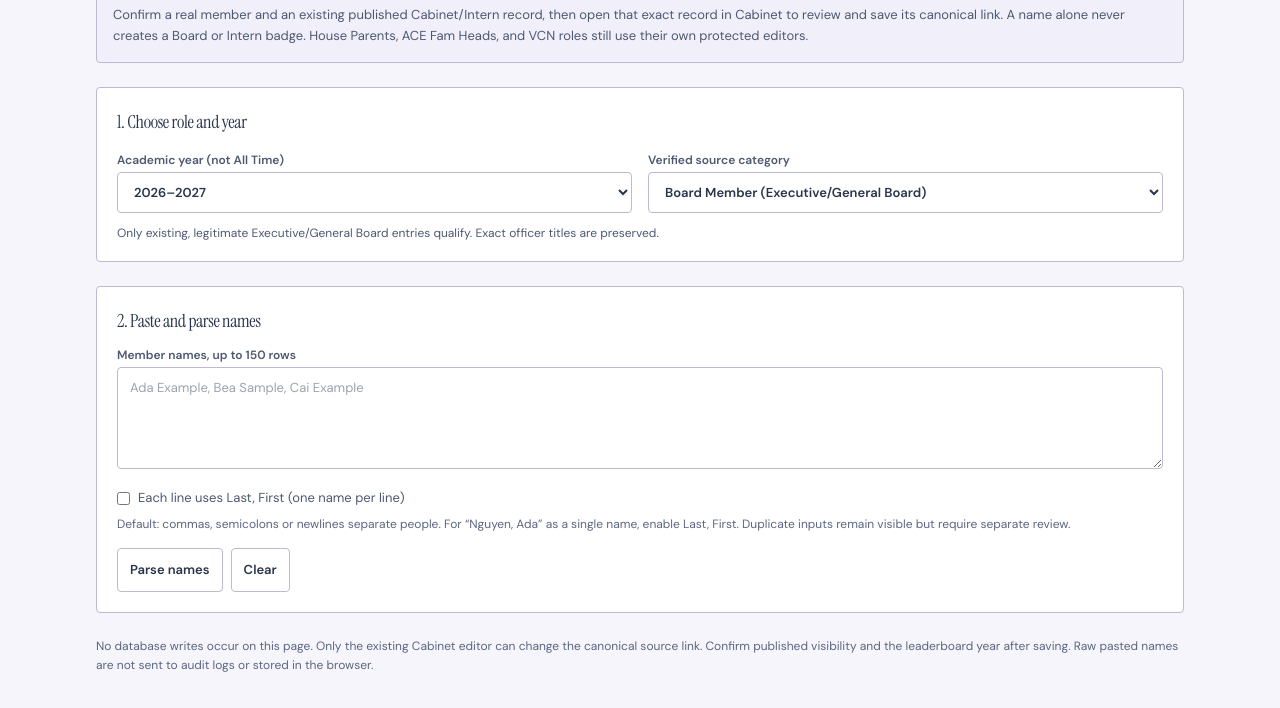
only chooses a single exact member and matching Cabinet row after separate admin clicks
(page scrolled)
In the text box labelled "Member names, up to 150 rows": [640, 418] box [117,367,1163,469], type "Ada Example"
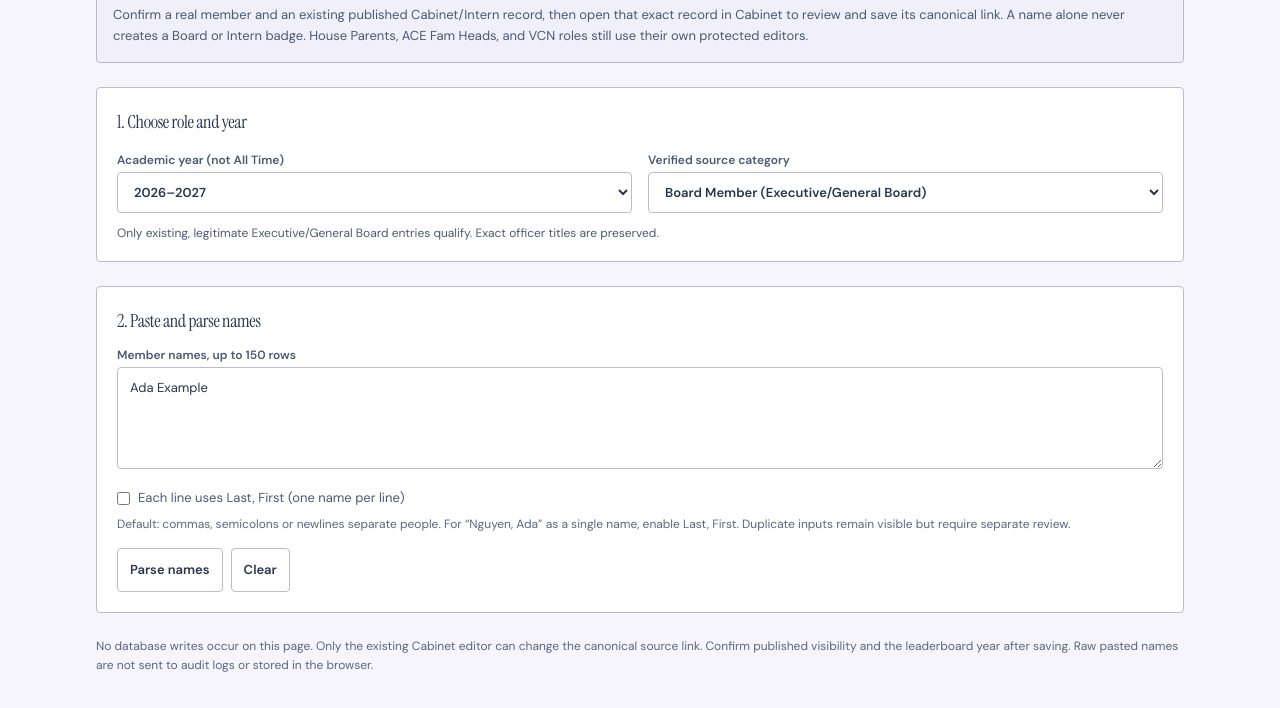
Click the button "Parse names": [170, 570] box [117,548,223,592]
(page scrolled)
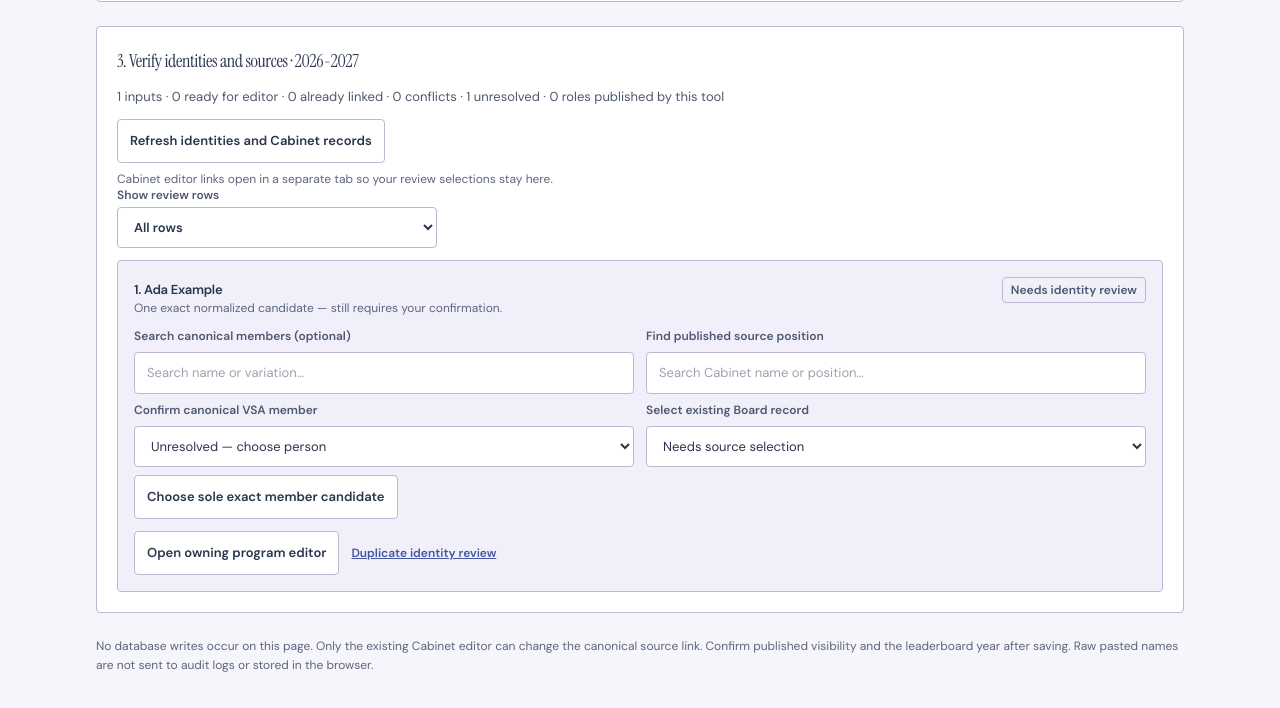
Check: the text "1 inputs · 0 ready for editor" is shown, box [117,88,724,105]
Click the button with aria-label "Row 1: choose sole exact member candidate for Ada Example": [266, 497] box [134,475,398,519]
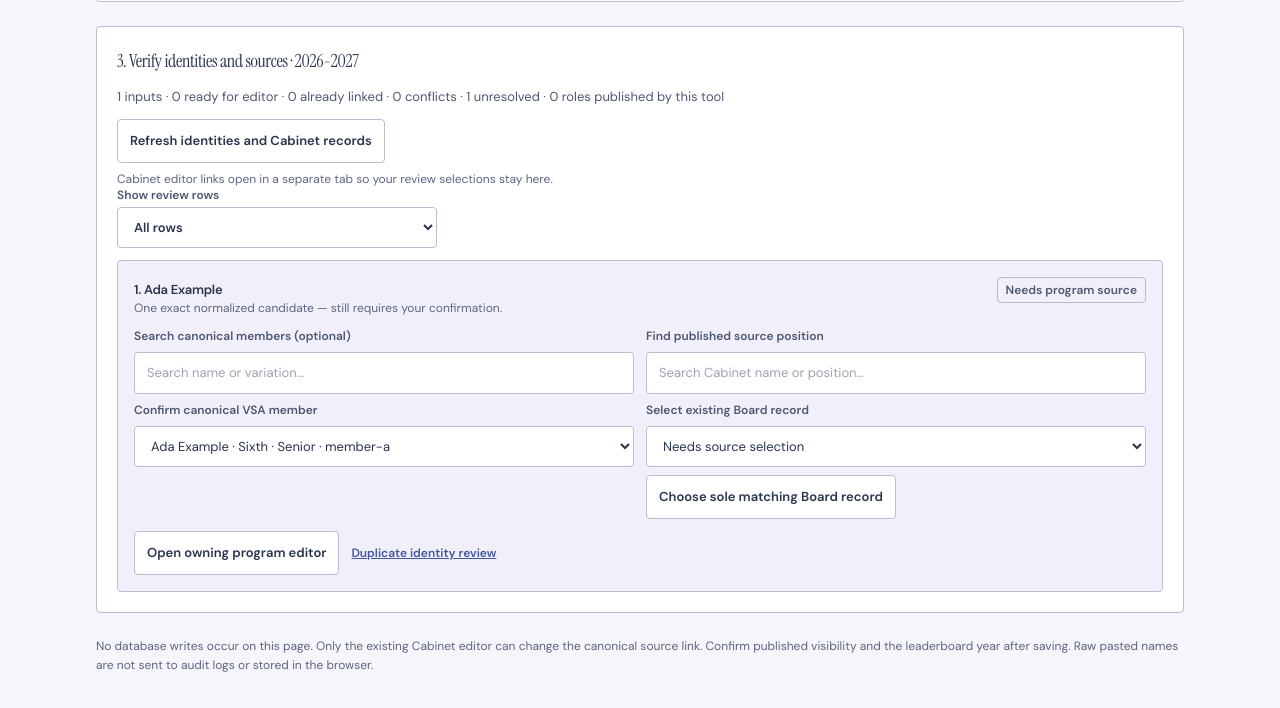
Check: the text "Ready to review in Cabinet" is not shown
Check: the dropdown labelled "Confirm canonical VSA member" shows "Ada Example · Sixth · Senior · member-a", box [134,426,634,467]
Click the button with aria-label "Row 1: choose sole matching Board record for Ada Example": [771, 497] box [646,475,896,519]
(page scrolled)
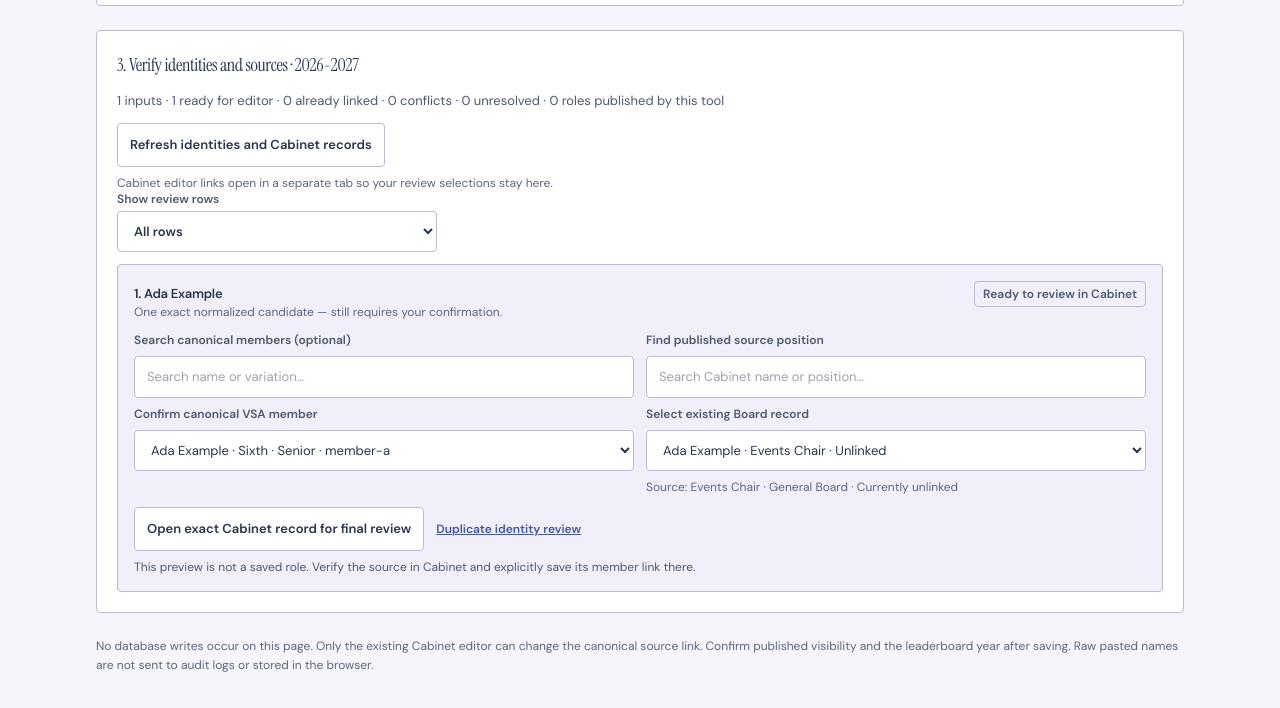
Check: the text "0 roles published by this tool" is shown, box [470,92,724,109]
Check: the dropdown labelled "Select existing Board record" shows "Ada Example · Events Chair · Unlinked", box [646,430,1146,471]
Check: the text "Ready to review in Cabinet" is shown, box [974,281,1146,307]
